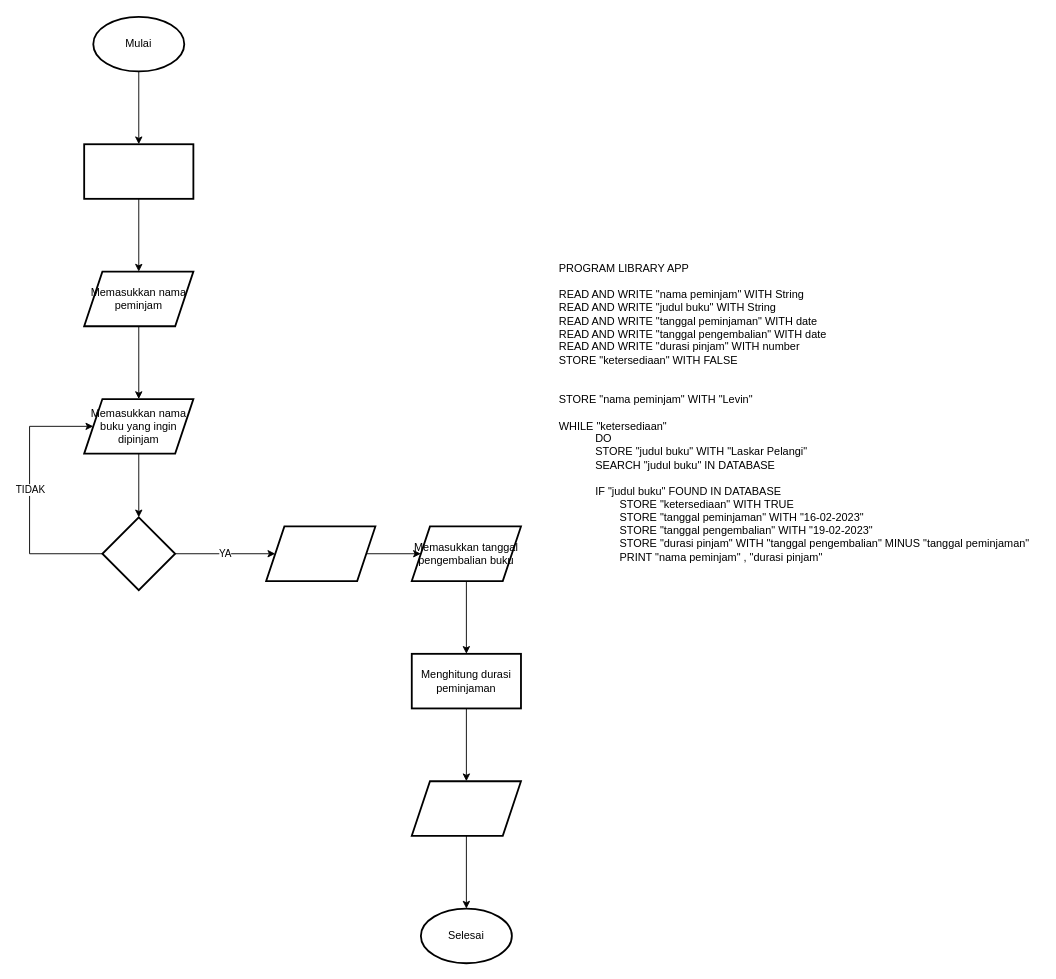
This 1056x979 diagram has some shape labels left out. Each missing label, with the centre of its shape:
"Buku tersedia" goes at (138,553).
"Memasukkan tanggal peminjaman buku" goes at (320,553).
"Membuka Aplikasi Perpustakaan" goes at (138,171).
"Menampilkan data peminjaman buku" goes at (465,808).
